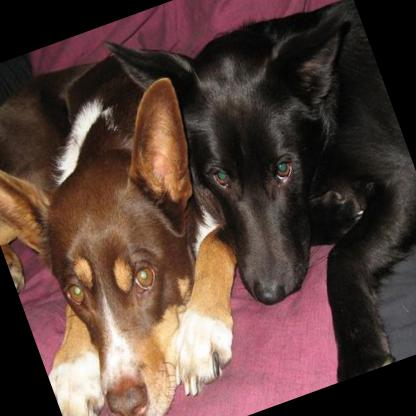kelpie: (102, 0, 416, 415), (0, 27, 279, 416)
